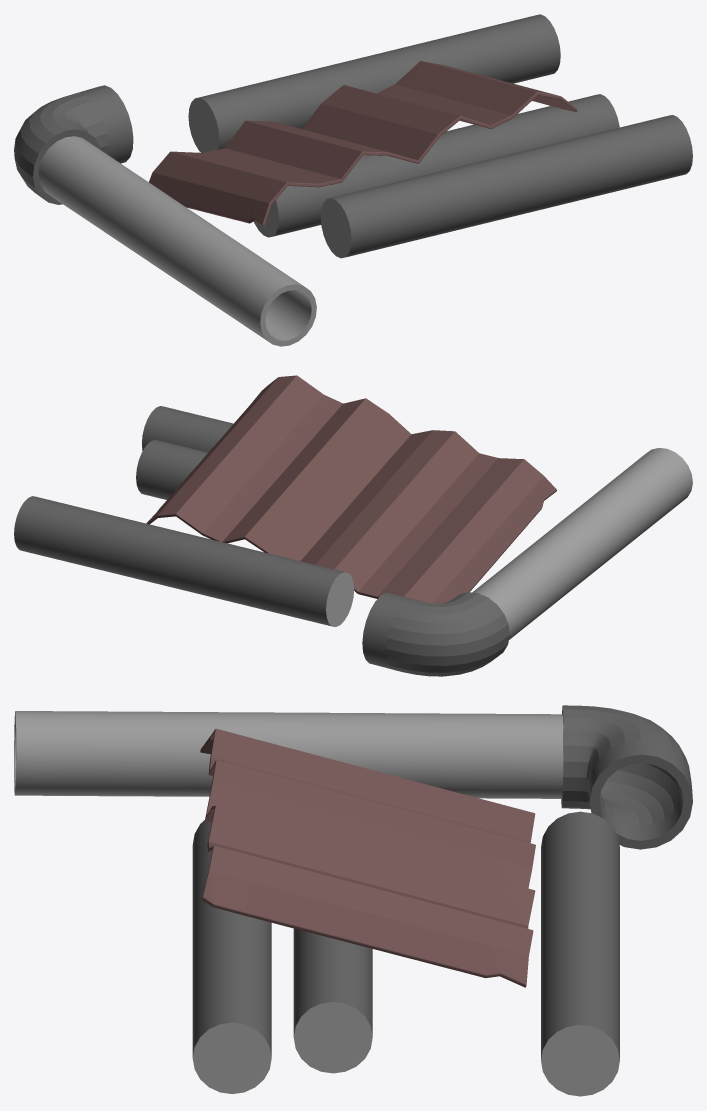
The model's file is MetalGeo.fbx.
3 renders of one model, top to bottom at view 1: azimuth 30°, elevation 25°; view 2: azimuth 150°, elevation 25°; view 3: azimuth 270°, elevation 25°, orthographic. The views are drawn at different scales.
Visible parts, largest first — view 1: Metal_geo; view 2: Metal_geo; view 3: Metal_geo.
Part boxes in pixels (x1=…): Metal_geo: x1=14, y1=14, x2=692, y2=346; Metal_geo: x1=14, y1=375, x2=692, y2=676; Metal_geo: x1=14, y1=705, x2=692, y2=1096.
Bounding box in the file's own units: 66.09 × 15.83 × 58.41.
